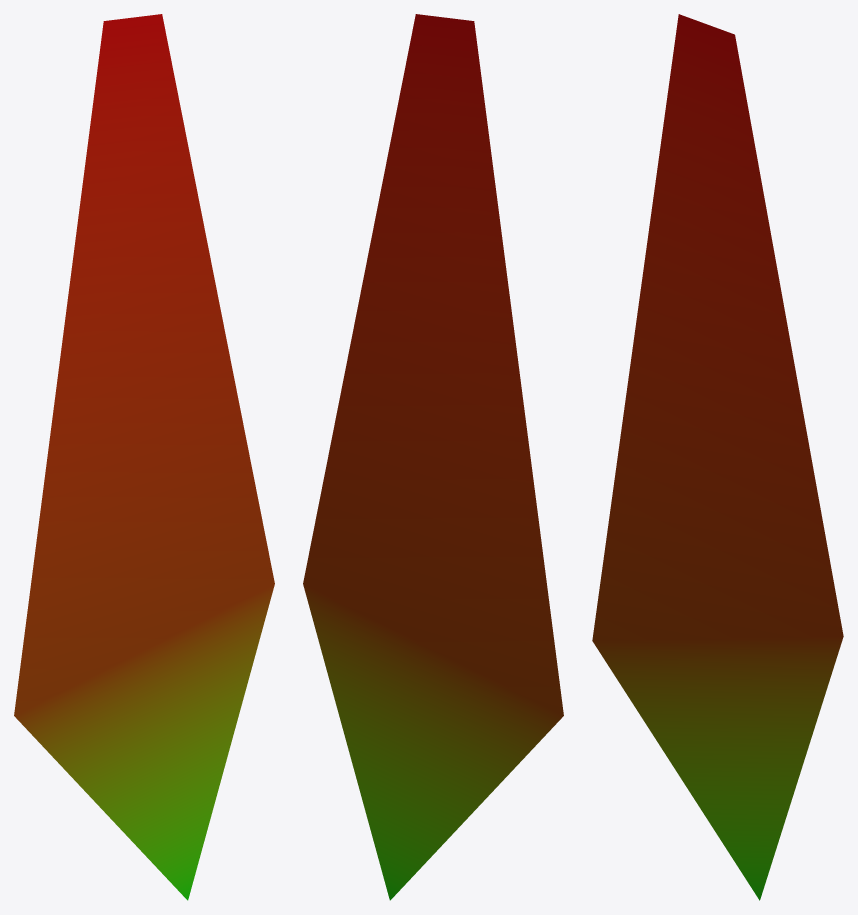
The model's file is Tundra Grass_LOD7_Var20_wk2oaeyqx.fbx.
3 renders of one model, left to right at view 1: azimuth 30°, elevation 25°; view 2: azimuth 150°, elevation 25°; view 3: azimuth 330°, elevation 25°, orthographic. The views are drawn at different scales.
Parts seen in each view (by area): view 1: _70an_Var20_LOD7; view 2: _70an_Var20_LOD7; view 3: _70an_Var20_LOD7.
Part boxes in pixels (left/top/right/bottom): _70an_Var20_LOD7: left=14, top=14, right=274, bottom=900; _70an_Var20_LOD7: left=303, top=14, right=563, bottom=900; _70an_Var20_LOD7: left=592, top=14, right=843, bottom=900.
Bounding box in the file's own units: 16.13 × 53.18 × 2.4e-06.
